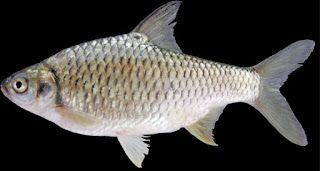Silver Barb: (0, 0, 318, 169)
